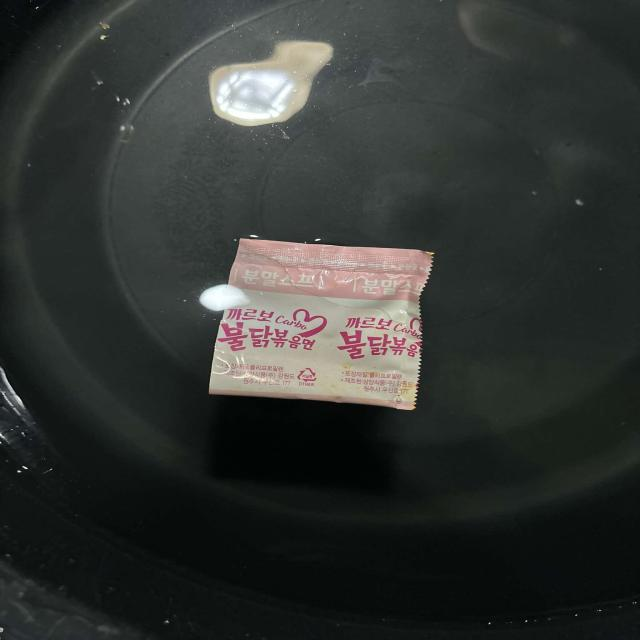Plastic Wrapper: (173, 207, 442, 424)
